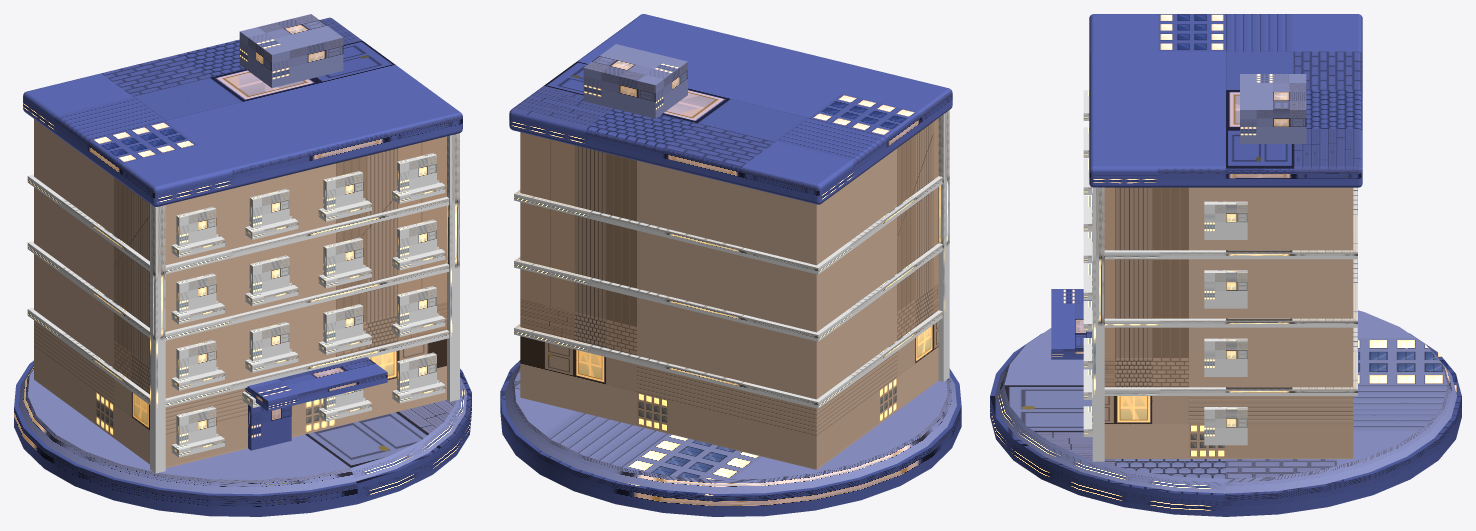
The model's file is tier-10-apartments.glb.
The picture shows the model from 3 angles, left to right: view 1: azimuth 30°, elevation 25°; view 2: azimuth 150°, elevation 25°; view 3: azimuth 270°, elevation 25°; orthographic projection. The views are drawn at different scales.
Parts seen in each view (by area): view 1: toon; view 2: toon; view 3: toon.
Boxes of the visible parts, x1,y1,x2,y2 form: toon: (14, 14, 471, 516); toon: (500, 14, 961, 516); toon: (990, 14, 1461, 516).
Size of the model in its own units: 1 by 0.845 by 1.
1 material, 1 textured.
